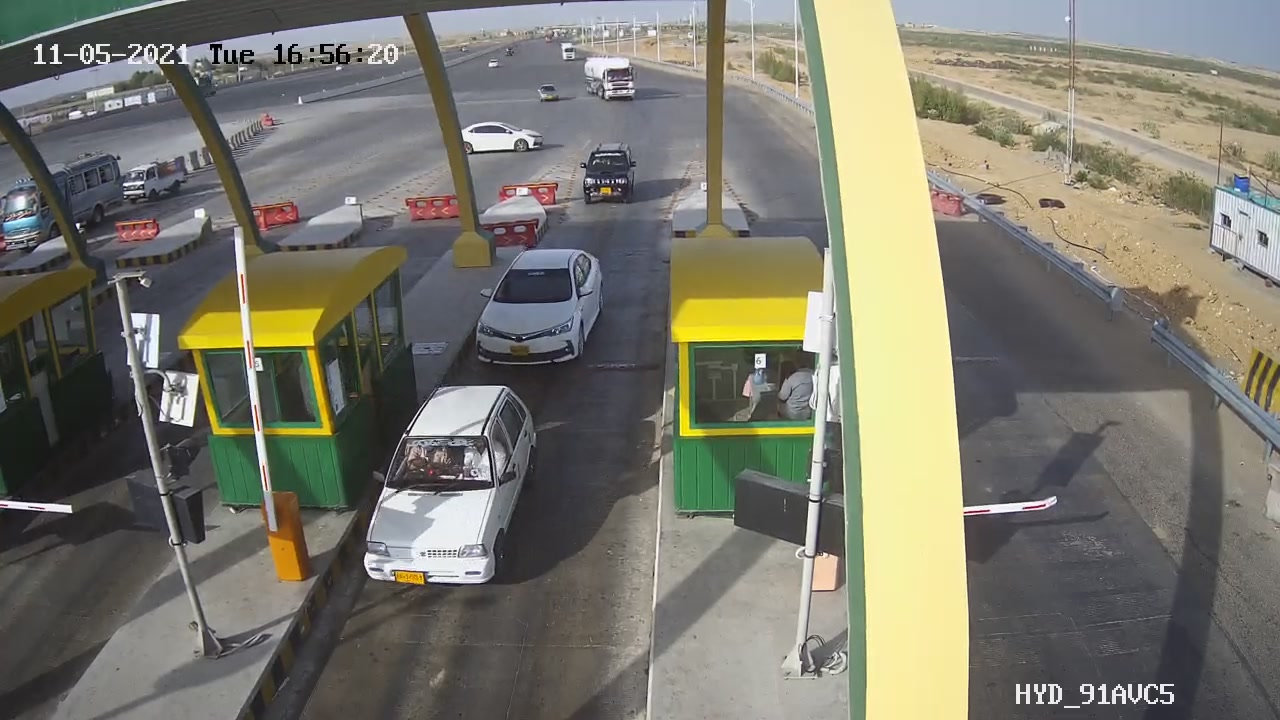F1: (341, 366, 562, 616), (462, 233, 618, 390)
